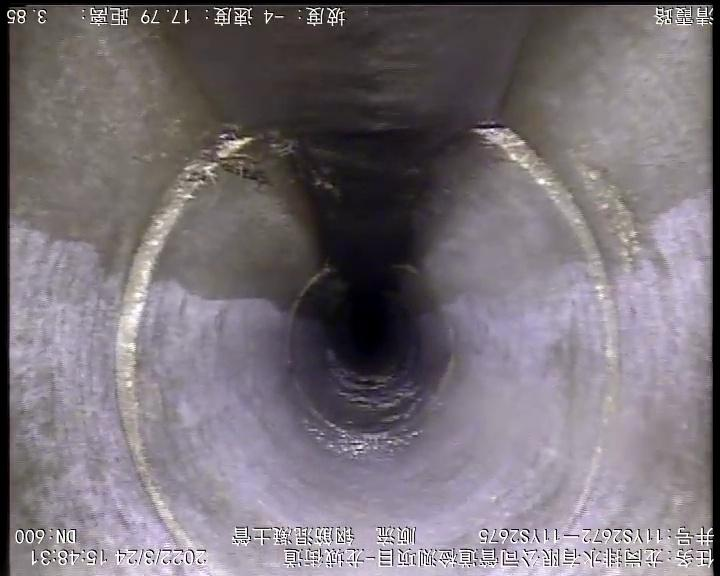CKTJ: (473, 125, 620, 525), (116, 132, 254, 548)
